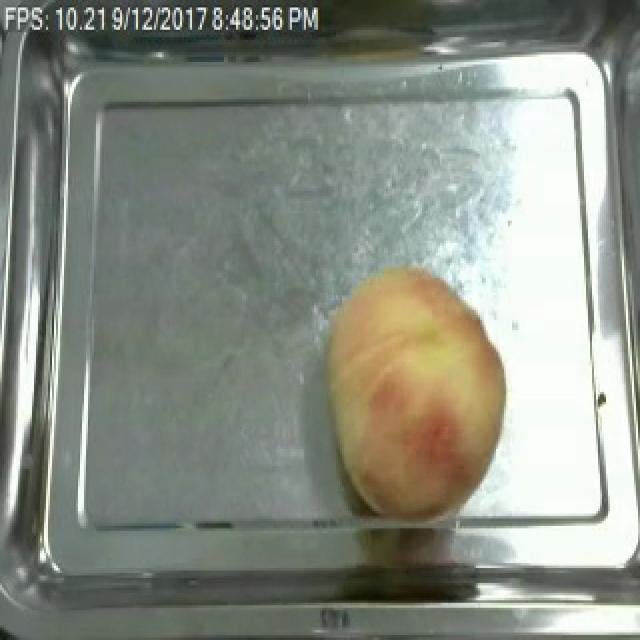Fruit: (314, 258, 514, 523)
